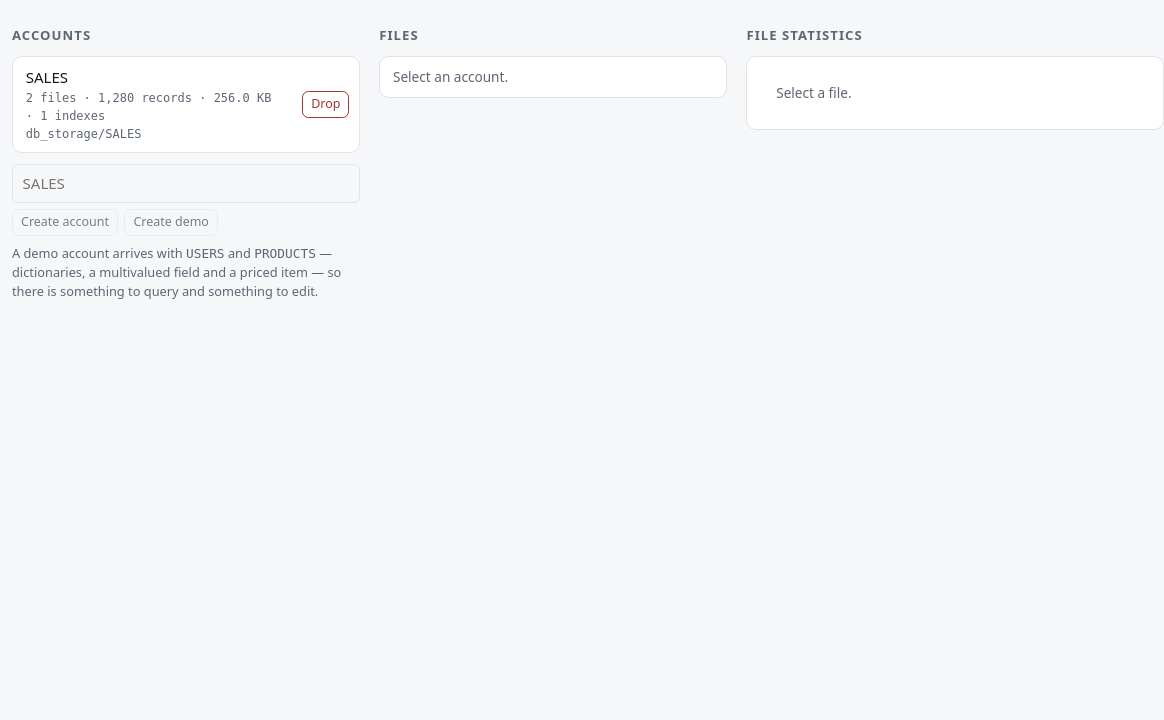
Scenario: the accounts view › shows what the database makes of a file, not only what it is made of
Click the button with class "select" at (154, 105), box [13,58,296,152]
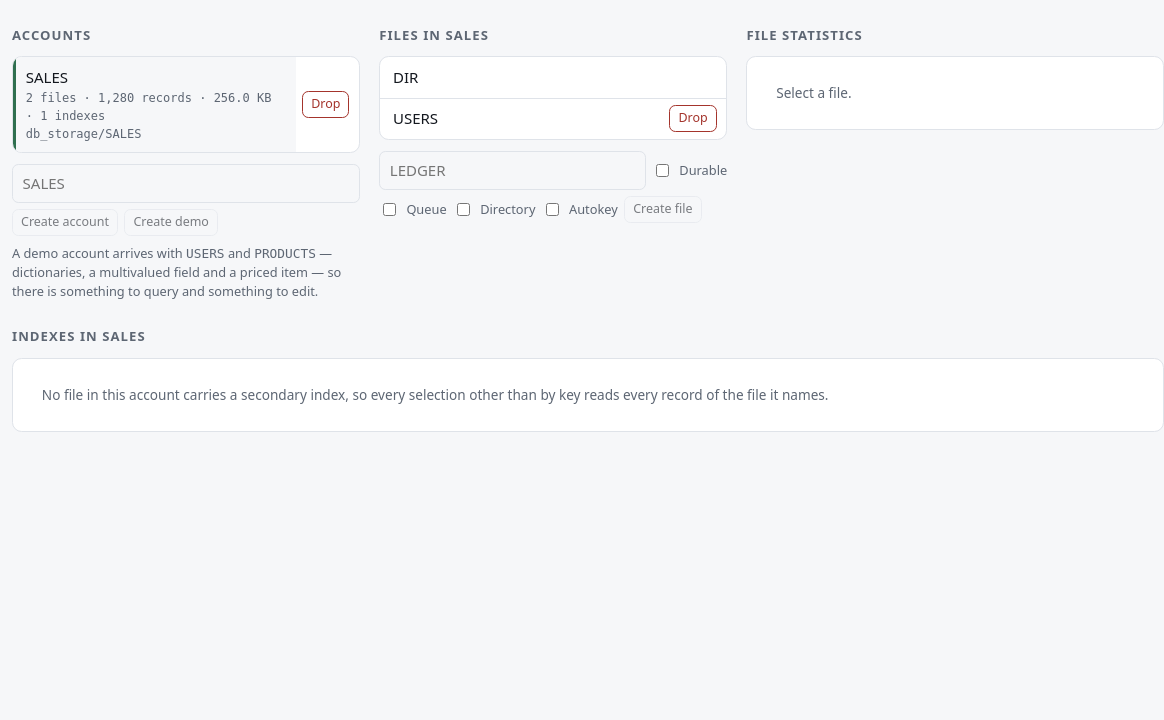
Click the button with class "select" showing "USERS" at (416, 118), box [380,99,663,139]
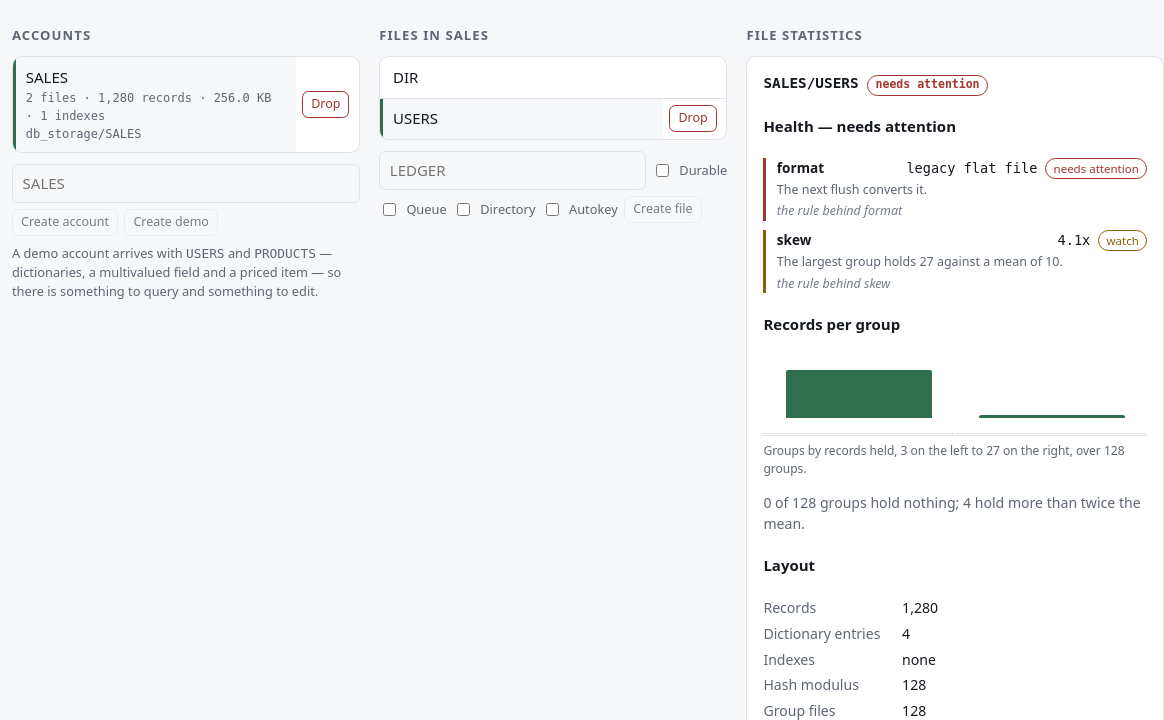
Check: the text "needs attention" is shown, box [867,75,988,96]
Check: the text "The next flush converts it." is shown, box [777,181,927,198]
Check: the text "the rule behind format" is shown, box [777,202,902,220]
